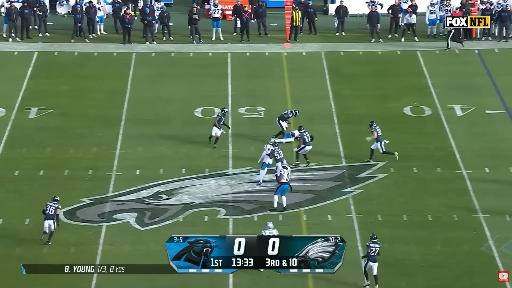Helmet: (269, 138, 278, 147), (369, 233, 378, 242), (369, 120, 377, 128), (266, 222, 274, 230), (298, 126, 305, 132), (52, 196, 59, 202), (221, 107, 228, 113), (264, 144, 271, 150), (430, 0, 436, 6), (269, 138, 275, 144), (293, 110, 299, 116), (272, 142, 278, 147), (282, 159, 287, 165), (445, 0, 450, 6), (497, 0, 502, 5), (214, 0, 218, 4)
Jersey: (366, 242, 381, 262), (44, 202, 60, 220), (261, 145, 272, 164), (371, 126, 384, 142), (278, 166, 290, 183), (271, 147, 284, 162), (278, 110, 294, 122), (427, 4, 439, 19), (299, 131, 311, 146), (154, 1, 164, 18), (210, 5, 222, 19), (95, 2, 105, 16), (284, 130, 299, 139), (217, 112, 225, 128), (438, 0, 445, 16), (444, 5, 453, 16), (368, 0, 379, 9), (262, 229, 278, 235), (479, 0, 487, 10), (401, 0, 409, 9), (494, 3, 501, 13), (503, 0, 510, 8)
Player: (366, 121, 398, 162), (270, 159, 292, 211), (362, 234, 381, 287), (41, 196, 60, 244), (209, 108, 230, 148), (294, 126, 313, 166), (274, 109, 299, 138), (258, 144, 272, 185), (209, 0, 223, 40), (270, 139, 285, 175), (426, 0, 439, 37), (95, 0, 106, 34), (154, 0, 164, 33), (276, 130, 299, 143), (437, 0, 445, 35), (367, 0, 383, 17), (262, 222, 278, 235), (401, 0, 409, 25), (367, 0, 383, 11), (479, 0, 490, 15), (443, 0, 453, 16), (494, 0, 502, 14)
